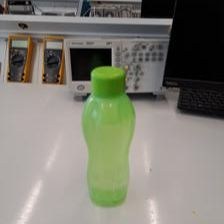bottle: (79, 62, 137, 208)
